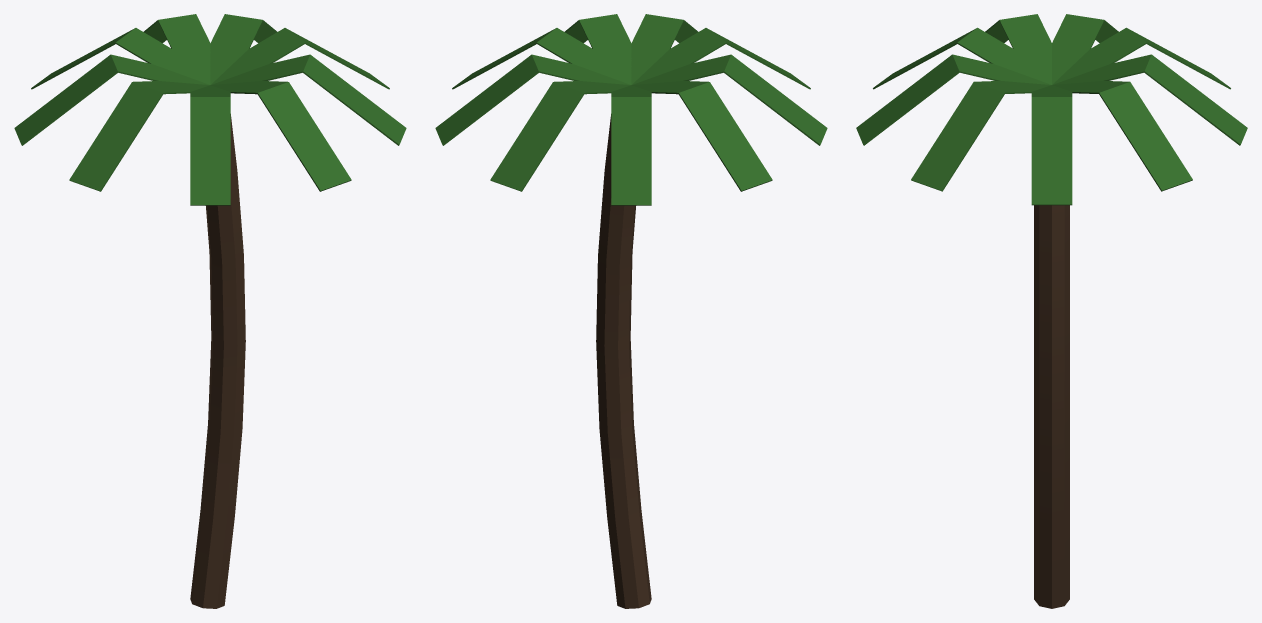
Rendered from landscape.tree.palm.glb.
3 views of the same model, side by side, from view 1: azimuth 30°, elevation 25°; view 2: azimuth 150°, elevation 25°; view 3: azimuth 270°, elevation 25° (orthographic).
Parts seen in each view (by area): view 1: main__foliage, main__bark; view 2: main__foliage, main__bark; view 3: main__foliage, main__bark.
Part boxes in pixels (<box>): main__foliage: <box>14,14,406,205</box>; main__bark: <box>190,114,245,608</box>; main__foliage: <box>435,14,827,205</box>; main__bark: <box>596,114,651,608</box>; main__foliage: <box>856,14,1247,205</box>; main__bark: <box>1034,205,1069,608</box>.
Bounding box in the file's own units: 4.75 × 7.44 × 4.83.
